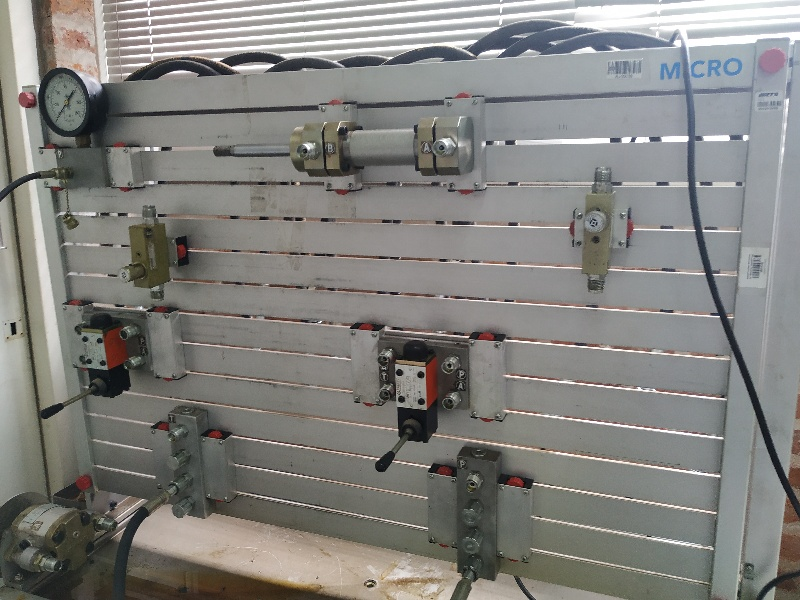Tablero 5: (34, 86, 759, 583)
